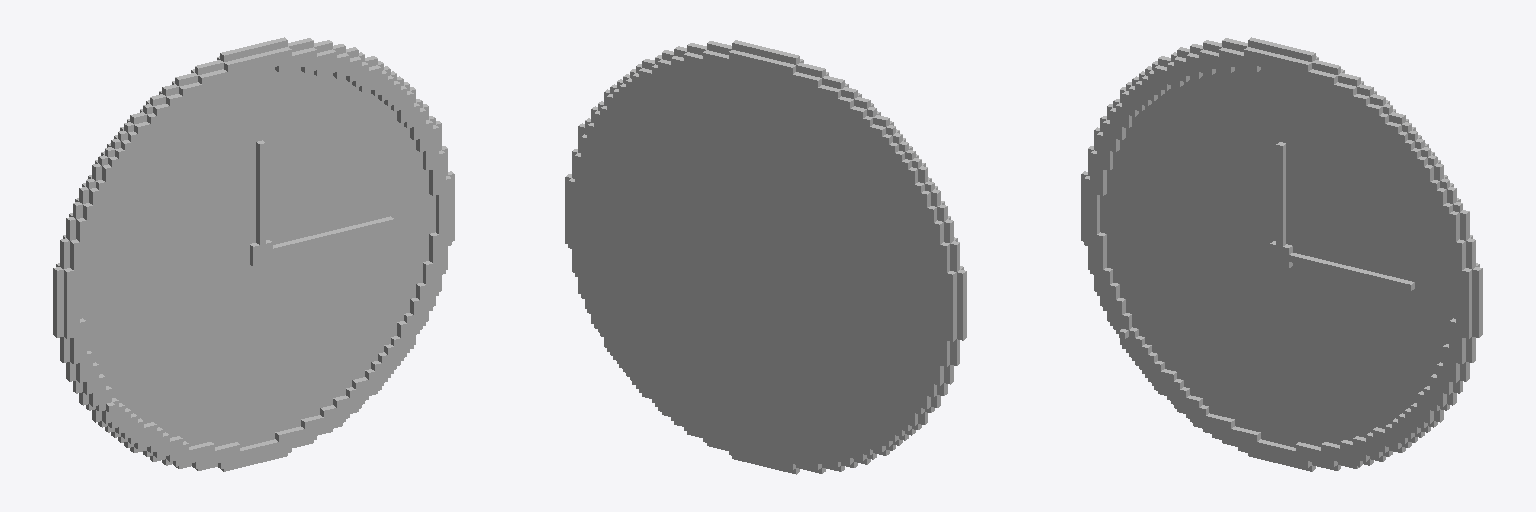
Rendered from clock.obj.
3 renders of one model, left to right at view 1: azimuth 30°, elevation 25°; view 2: azimuth 150°, elevation 25°; view 3: azimuth 330°, elevation 25°, orthographic.
Parts seen in each view (by area): view 1: object 1; view 2: object 1; view 3: object 1.
Part boxes in pixels (x1,y1,x2,y2): object 1: (53, 37, 454, 471); object 1: (565, 40, 966, 474); object 1: (1081, 37, 1482, 471).
Bounding box in the file's own units: 6.2 × 6.2 × 0.4.